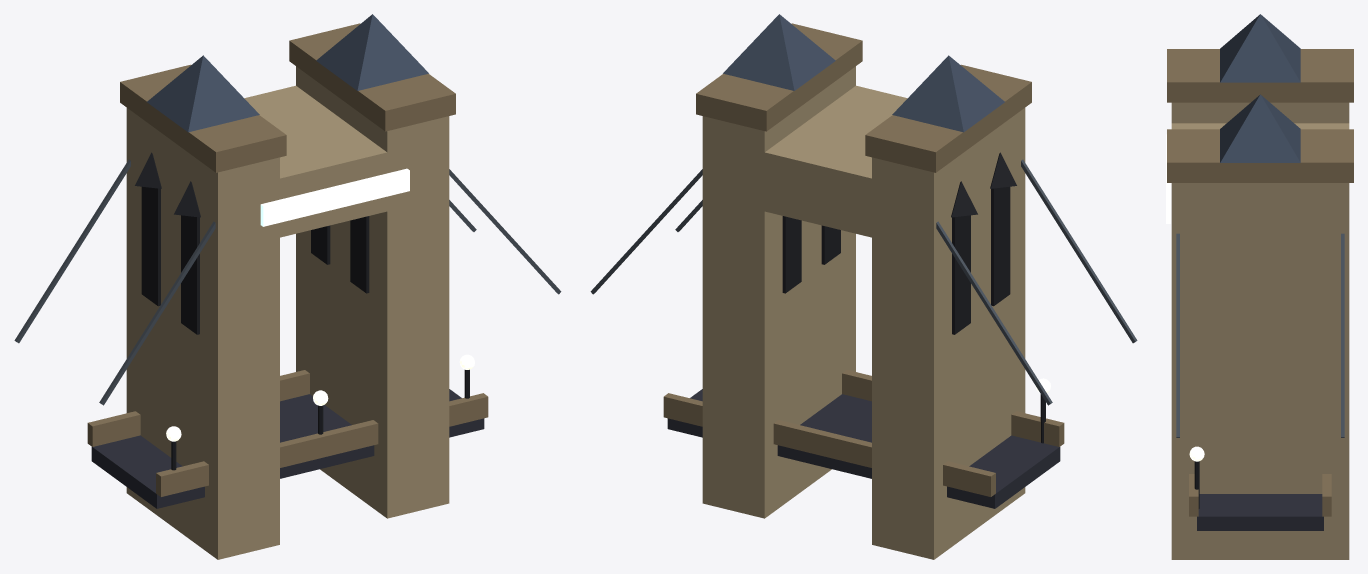
The model's file is igw-bridge-tower.glb.
The picture shows the model from 3 angles, left to right: view 1: azimuth 30°, elevation 25°; view 2: azimuth 150°, elevation 25°; view 3: azimuth 270°, elevation 25°; orthographic projection. The views are drawn at different scales.
Visible parts, largest first — view 1: cw_paint, cw_neon; view 2: cw_paint; view 3: cw_paint, cw_neon.
Part boxes in pixels (x1=…): cw_paint: x1=14, y1=14, x2=561, y2=559; cw_neon: x1=260, y1=168, x2=409, y2=226; cw_paint: x1=590, y1=14, x2=1137, y2=559; cw_paint: x1=1167, y1=14, x2=1353, y2=559; cw_neon: x1=1166, y1=134, x2=1170, y2=223.
Bounding box in the file's own units: 8.16 × 7.85 × 2.96.
